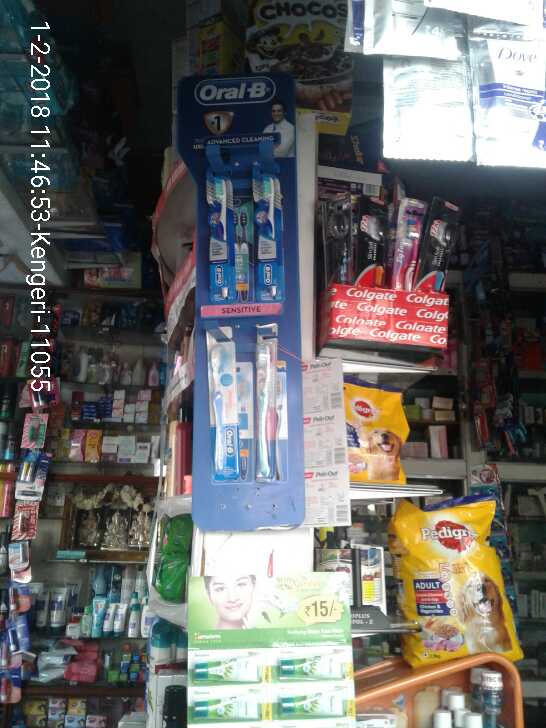oralb: (246, 169, 288, 300), (209, 339, 247, 482), (197, 171, 234, 315), (257, 336, 286, 487)
